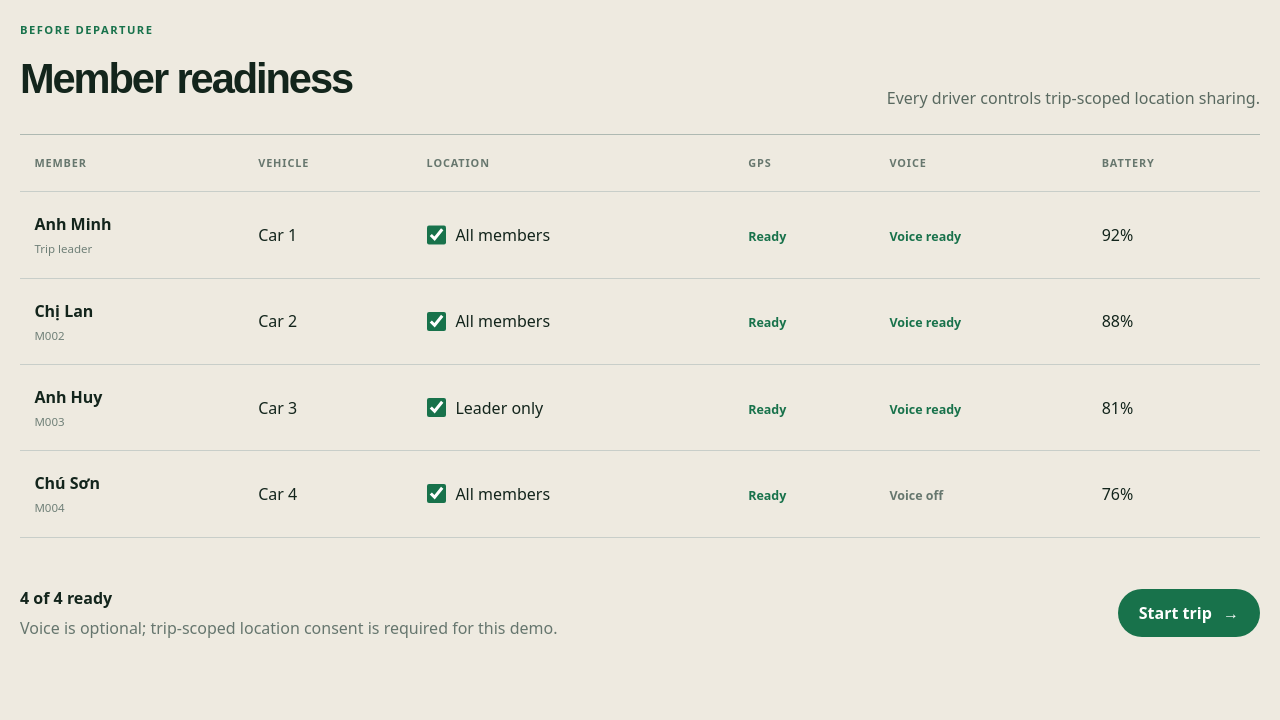
TripSetupPage › writes an auditable session and navigates into the live trip
The width and height of the screenshot is (1280, 720).
(page scrolled)
Step 1. Click the button "Start trip →" → (1189, 613), box left=1118, top=589, right=1260, bottom=637
(page scrolled)
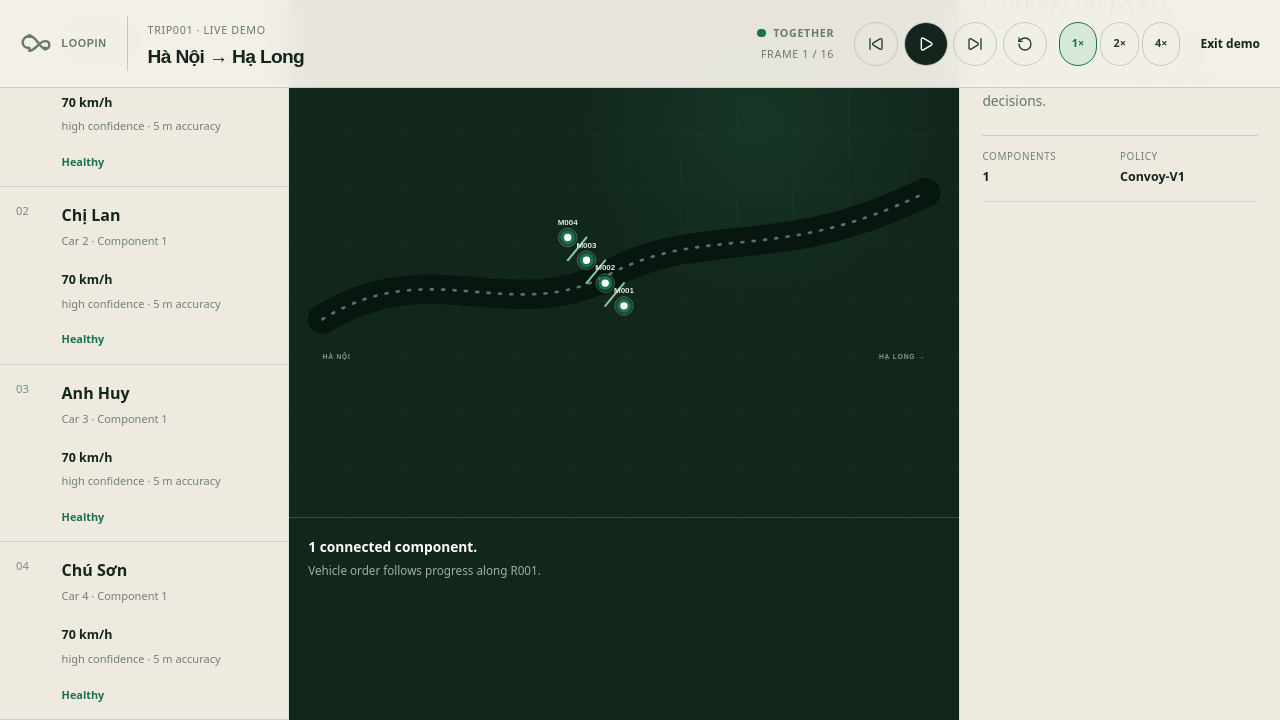
Expected: the heading "Hà Nội → Hạ Long" is shown, left=148, top=43, right=304, bottom=72
Now the text "TRIP001 · Live demo" is shown, box left=148, top=22, right=266, bottom=36
